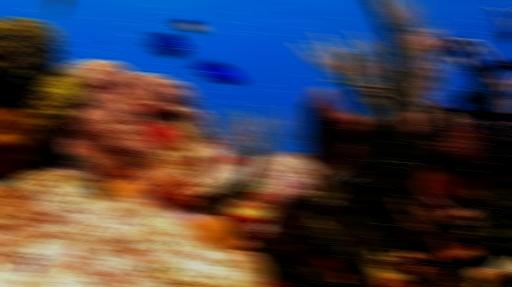Fish: (187, 57, 242, 84), (144, 33, 187, 58), (174, 19, 205, 33), (48, 0, 60, 17), (324, 79, 343, 84), (293, 136, 303, 139)
